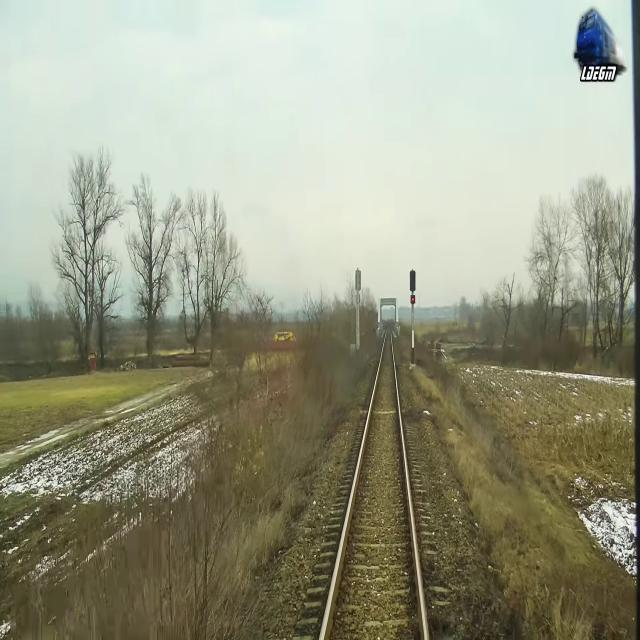rail-track: (324, 336, 423, 639)
